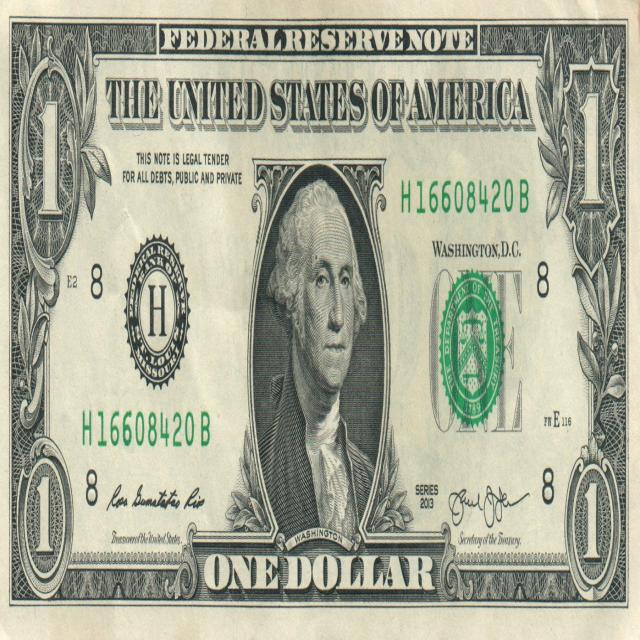SerialNumber: (83, 411, 210, 447), (401, 179, 529, 213)
